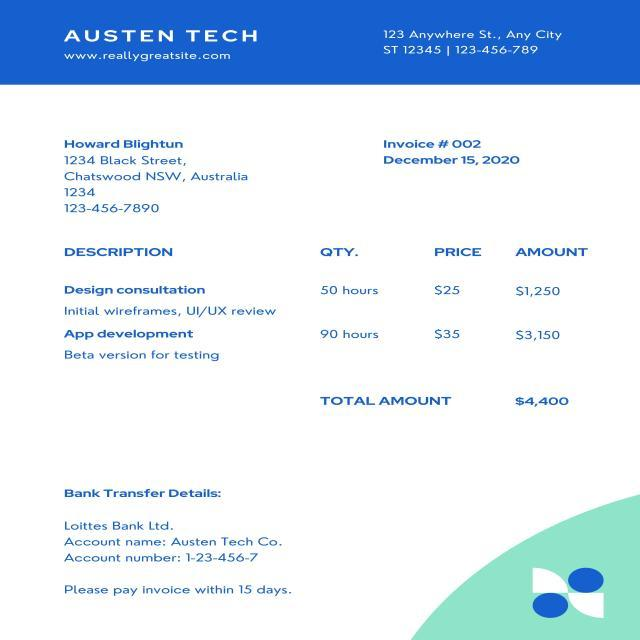ROI: (52, 237, 602, 372), (51, 476, 294, 568), (51, 127, 254, 220), (371, 21, 588, 69), (316, 384, 587, 418), (374, 131, 534, 176), (54, 574, 300, 601), (44, 17, 268, 45), (57, 49, 241, 67)
